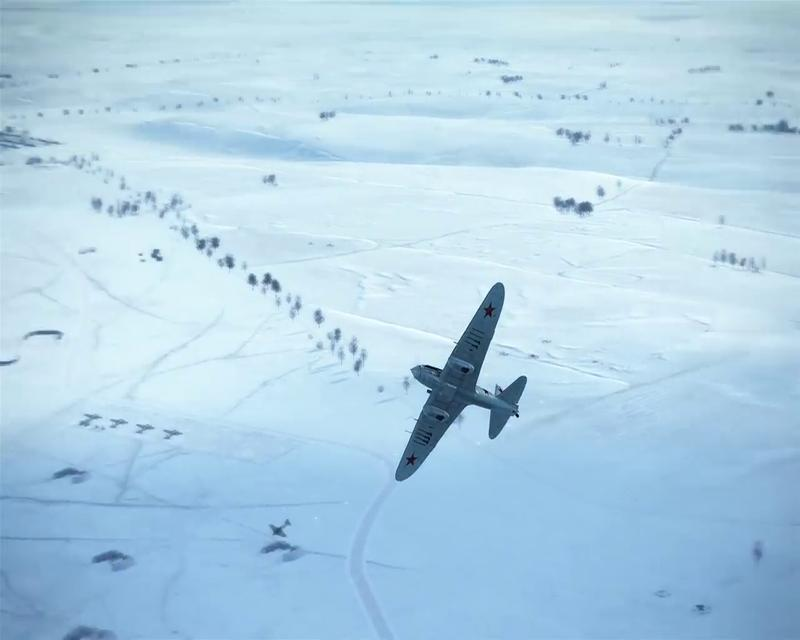UAV: (392, 280, 527, 482)
